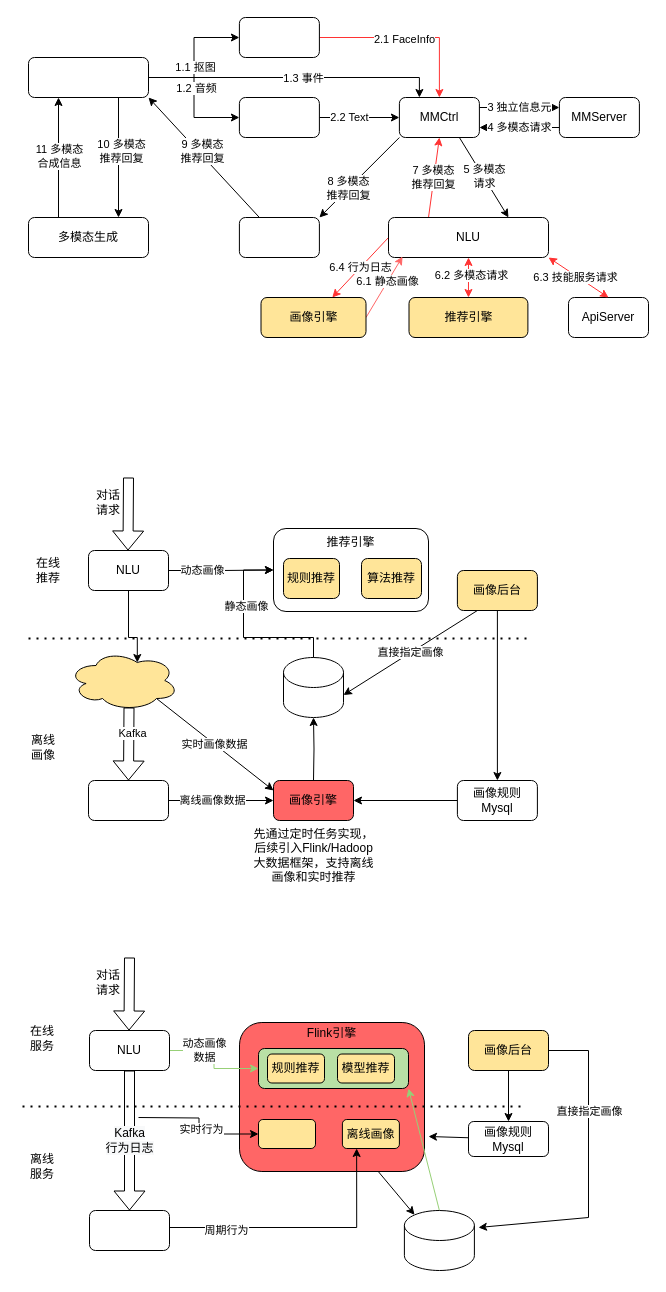
This 666x1292 diagram has some shape labels left out. Each missing label, with the centre of its shape:
"AsrCtrl" belongs at pixel 278 117.
"HARI" belongs at pixel 278 237.
"Hbase 数据库" belongs at pixel 129 1230.
"Mysql 数据库" belongs at pixel 128 800.
"VisionSkill" belongs at pixel 278 37.
"实时画像" belongs at pixel 287 1133.
"端测" belongs at pixel 88 77.
"行为日志" belongs at pixel 123 680.
"静态画像 数据 mysql+redis" belongs at pixel 313 687.
"静态画像 标签 mysql+redis" belongs at pixel 438 1240.
